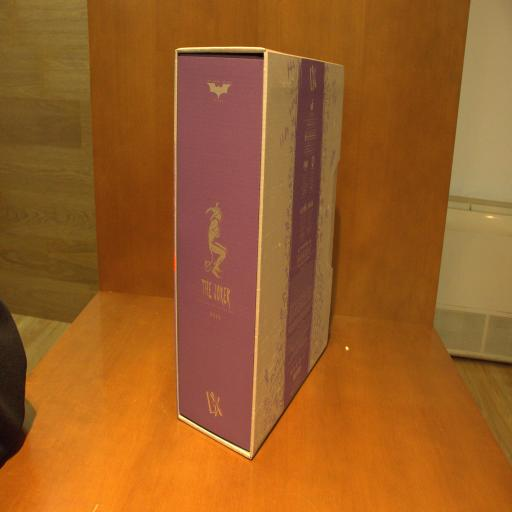Joker: (172, 46, 344, 456)
